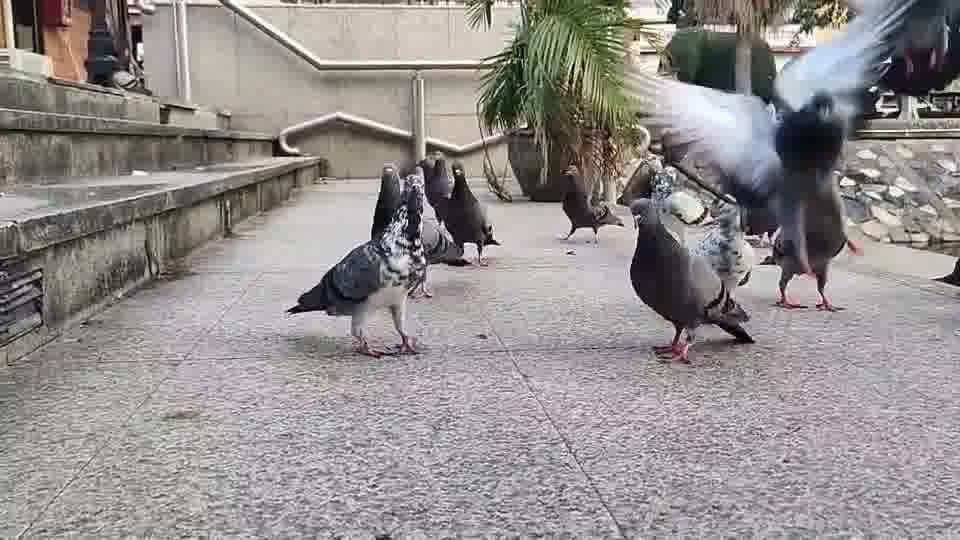Pigeon: (623, 1, 924, 277), (284, 173, 429, 358), (627, 197, 755, 364), (370, 164, 471, 298), (415, 153, 502, 267), (692, 201, 753, 322), (555, 164, 624, 247)
